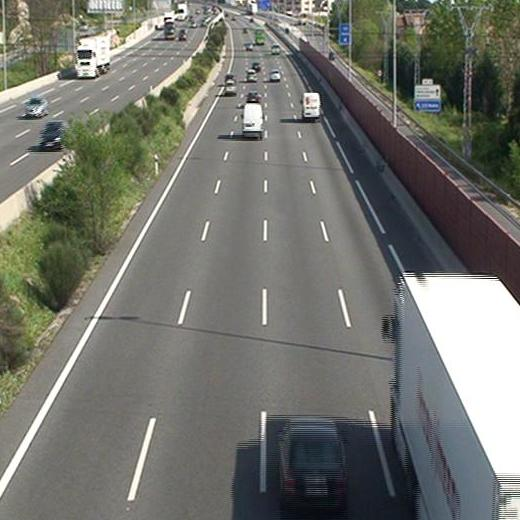car: (279, 419, 347, 510), (247, 91, 260, 104), (224, 81, 235, 95), (247, 70, 257, 82), (270, 70, 280, 80)
truck: (392, 276, 520, 518)
van: (243, 103, 263, 137), (302, 92, 319, 120)
